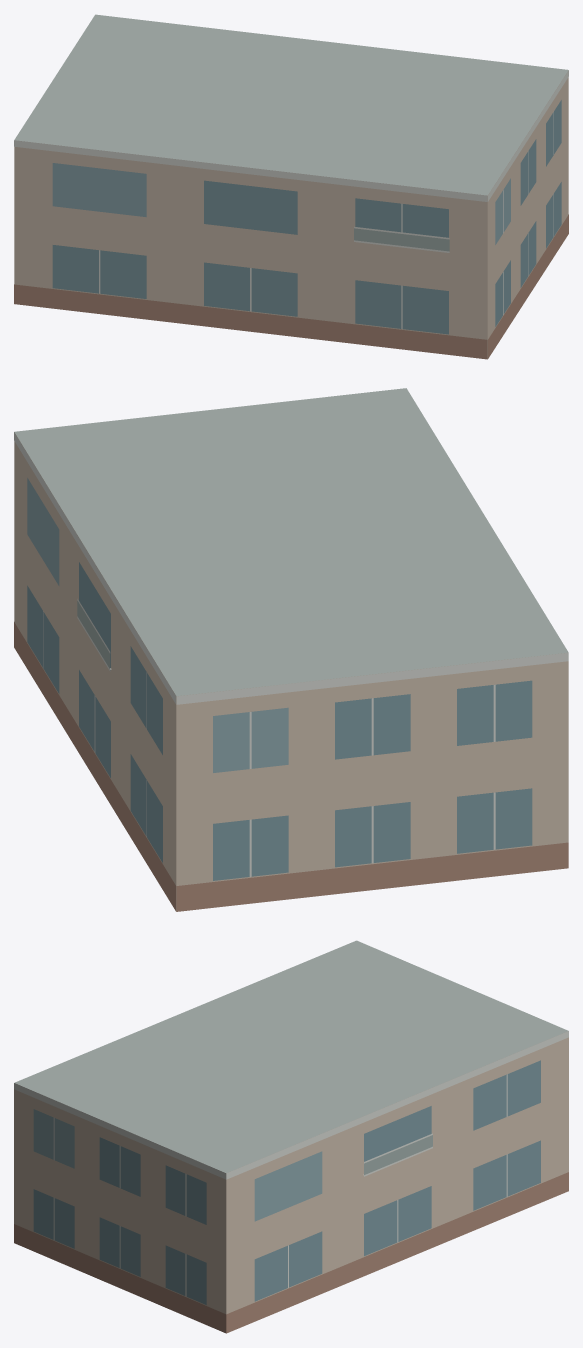
File: survey-upis-32770709.glb
The picture shows the model from 3 angles, top to bottom: view 1: azimuth 30°, elevation 25°; view 2: azimuth 150°, elevation 25°; view 3: azimuth 270°, elevation 25°; orthographic projection. The views are drawn at different scales.
Parts seen in each view (by area): view 1: survey-upis-32770709.tmp; view 2: survey-upis-32770709.tmp; view 3: survey-upis-32770709.tmp.
Boxes of the visible parts, x1,y1,x2,y2 form: survey-upis-32770709.tmp: [14, 14, 568, 359]; survey-upis-32770709.tmp: [14, 388, 568, 911]; survey-upis-32770709.tmp: [14, 940, 568, 1333].
Bounding box in the file's own units: 19.03 × 6.1 × 19.15.
